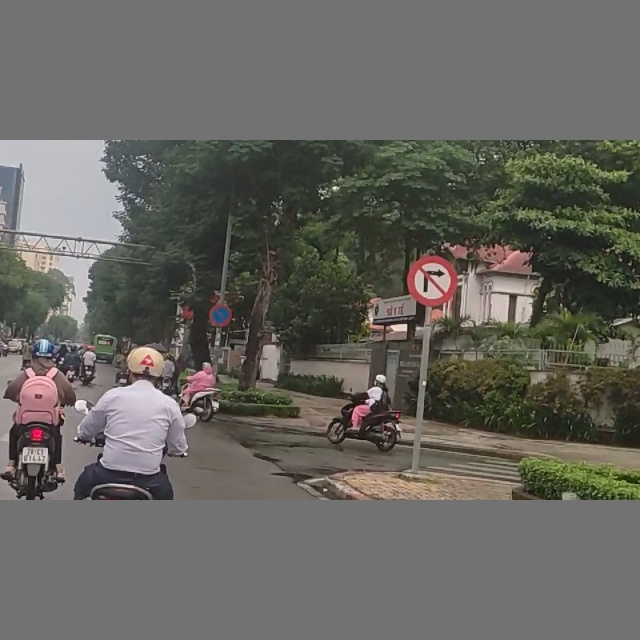P.123b: (407, 255, 457, 307)
P.131a: (209, 303, 233, 327)
